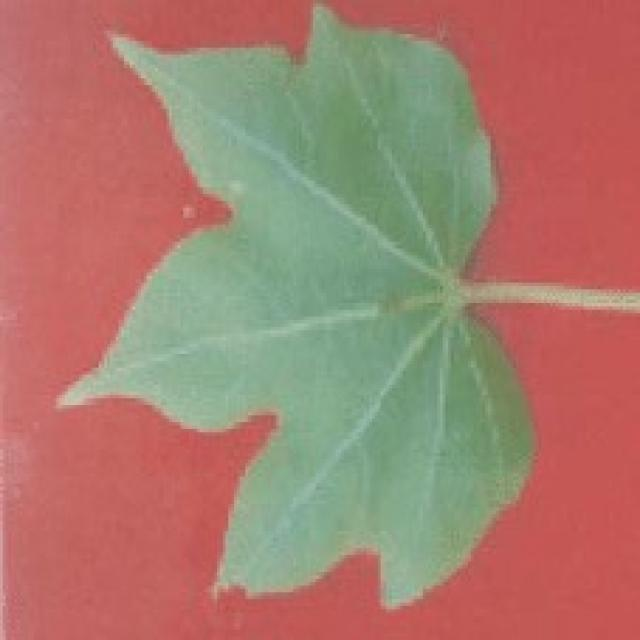Healthy Leaf: (20, 5, 640, 625)
